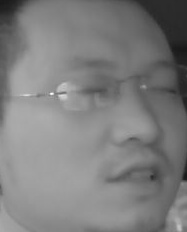glass: (55, 71, 119, 109)
mouth: (109, 159, 167, 194)
